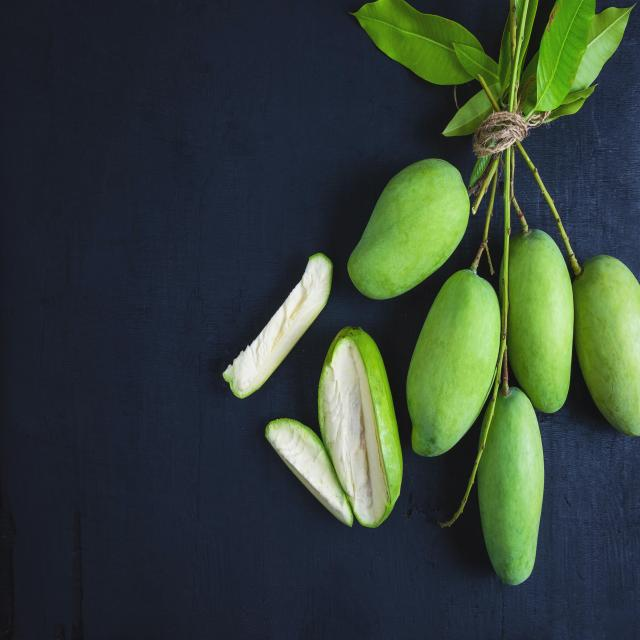raw-image: (219, 250, 405, 572), (344, 146, 464, 286), (496, 230, 580, 410), (421, 282, 496, 463), (582, 252, 640, 485), (476, 403, 540, 584)
